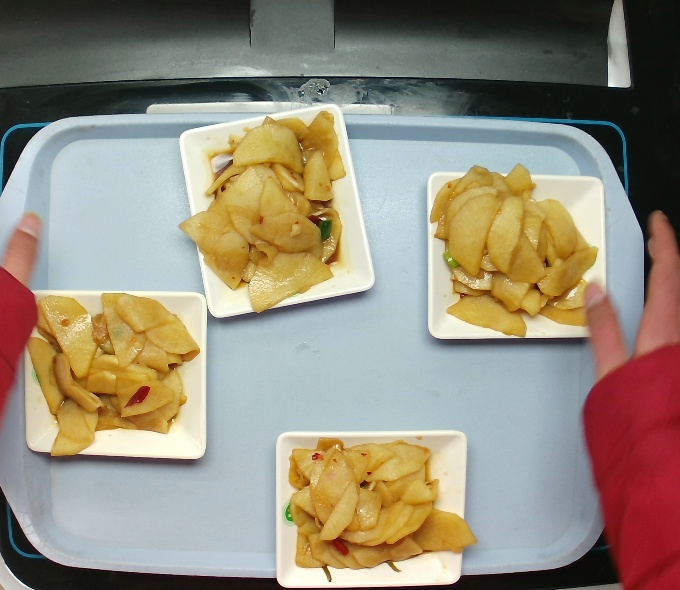wcq-YanLuoBo: (275, 425, 476, 589), (431, 154, 599, 344), (190, 114, 348, 310), (26, 288, 199, 454)
